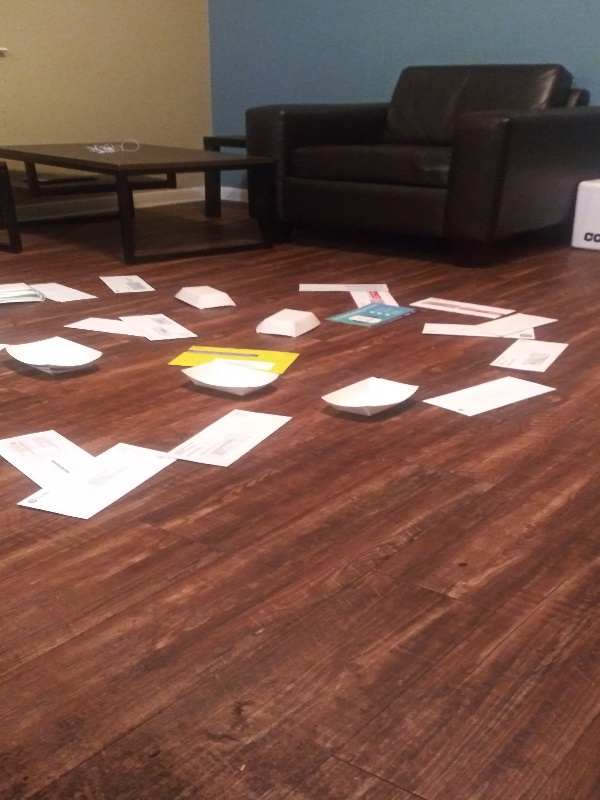plate: (316, 374, 422, 424), (3, 333, 108, 383), (176, 358, 288, 403), (252, 306, 328, 339), (171, 282, 238, 312), (1, 278, 47, 310)
